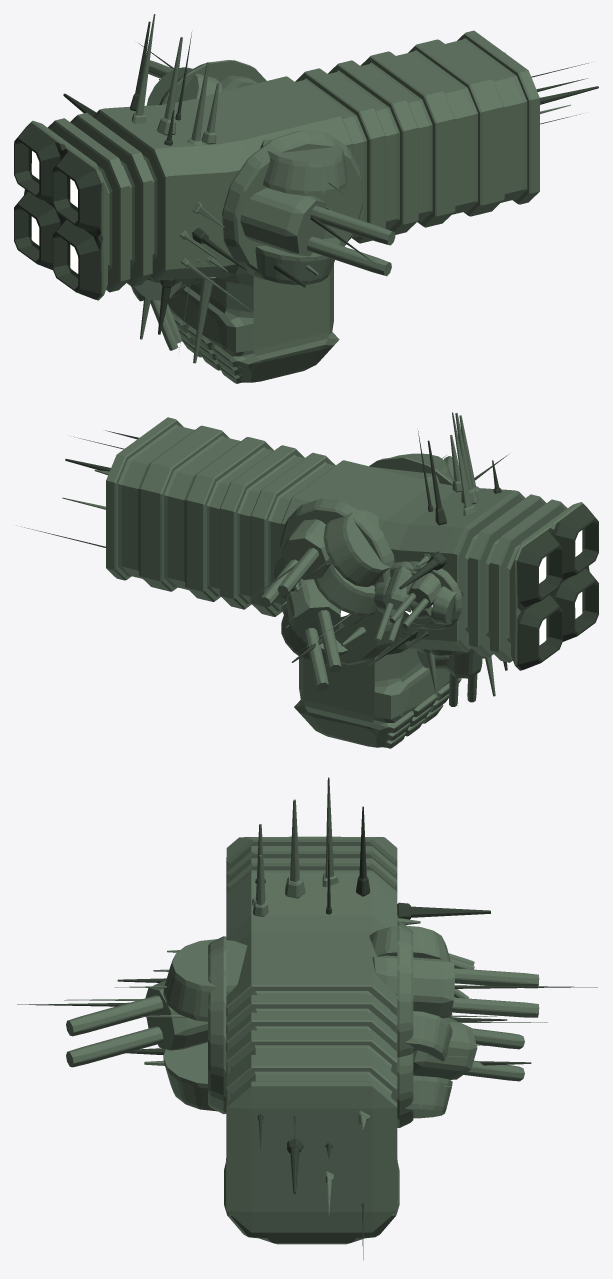
The model's file is pvais6.fbx.
The picture shows the model from 3 angles, top to bottom: view 1: azimuth 30°, elevation 25°; view 2: azimuth 150°, elevation 25°; view 3: azimuth 270°, elevation 25°; orthographic projection. The views are drawn at different scales.
Parts seen in each view (by area): view 1: Spaceship; view 2: Spaceship; view 3: Spaceship.
Boxes of the visible parts, <box> form: Spaceship: <box>14,14,598,383</box>; Spaceship: <box>21,412,598,748</box>; Spaceship: <box>17,777,597,1259</box>.
Size of the model in its own units: 438 by 268 by 353.
